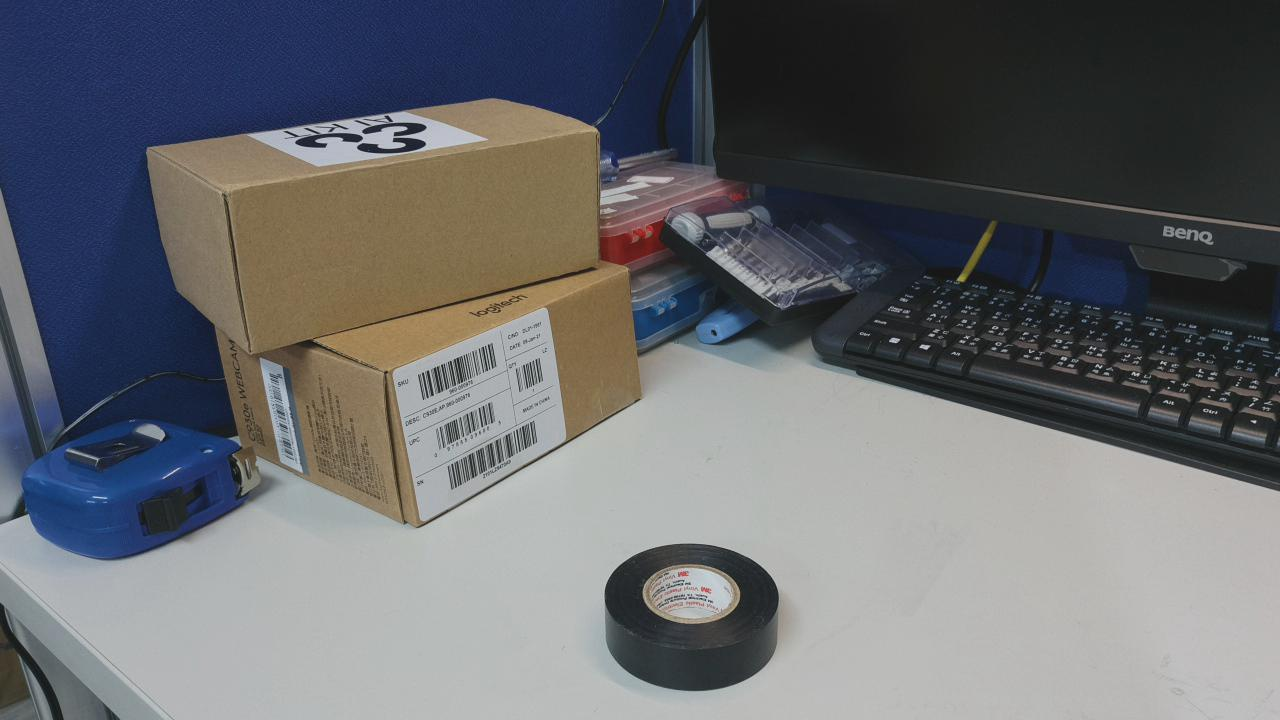columnar: (606, 141, 722, 290)
grip: (713, 169, 764, 261)
